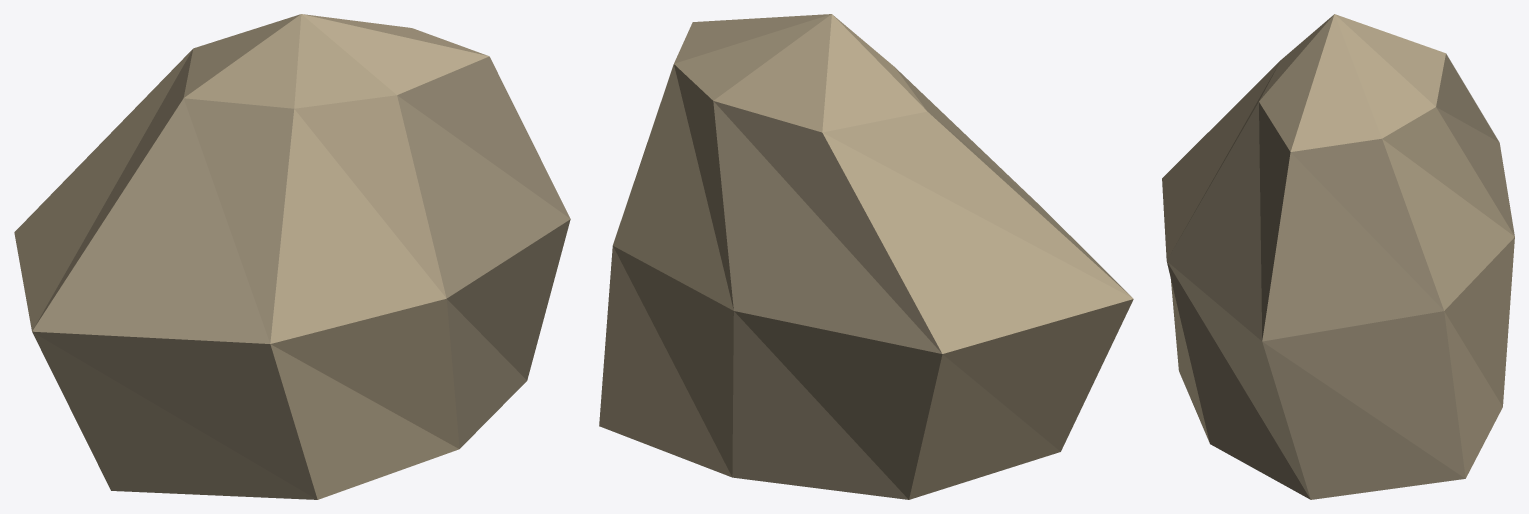
File: rock-large.glb
3 renders of one model, left to right at view 1: azimuth 30°, elevation 25°; view 2: azimuth 150°, elevation 25°; view 3: azimuth 270°, elevation 25°, orthographic. The views are drawn at different scales.
Visible parts, largest first — view 1: rock-large; view 2: rock-large; view 3: rock-large.
Part boxes in pixels (x1=…): rock-large: x1=14, y1=14, x2=570, y2=499; rock-large: x1=599, y1=14, x2=1133, y2=499; rock-large: x1=1162, y1=14, x2=1514, y2=499.
Size of the model in its own units: 1.27 by 0.96 by 0.7925.
